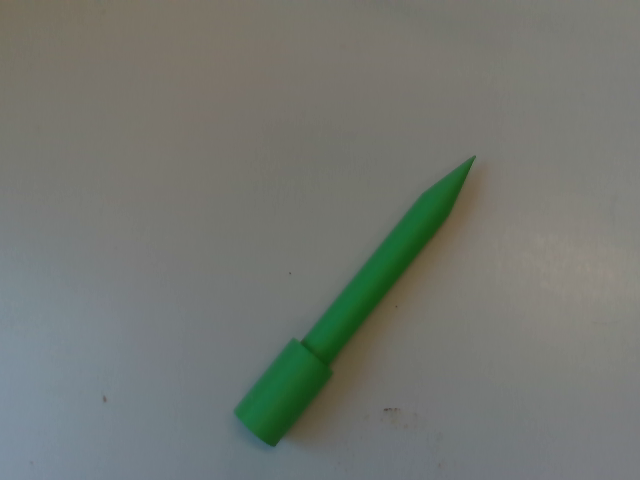Probe: (229, 151, 483, 452)
